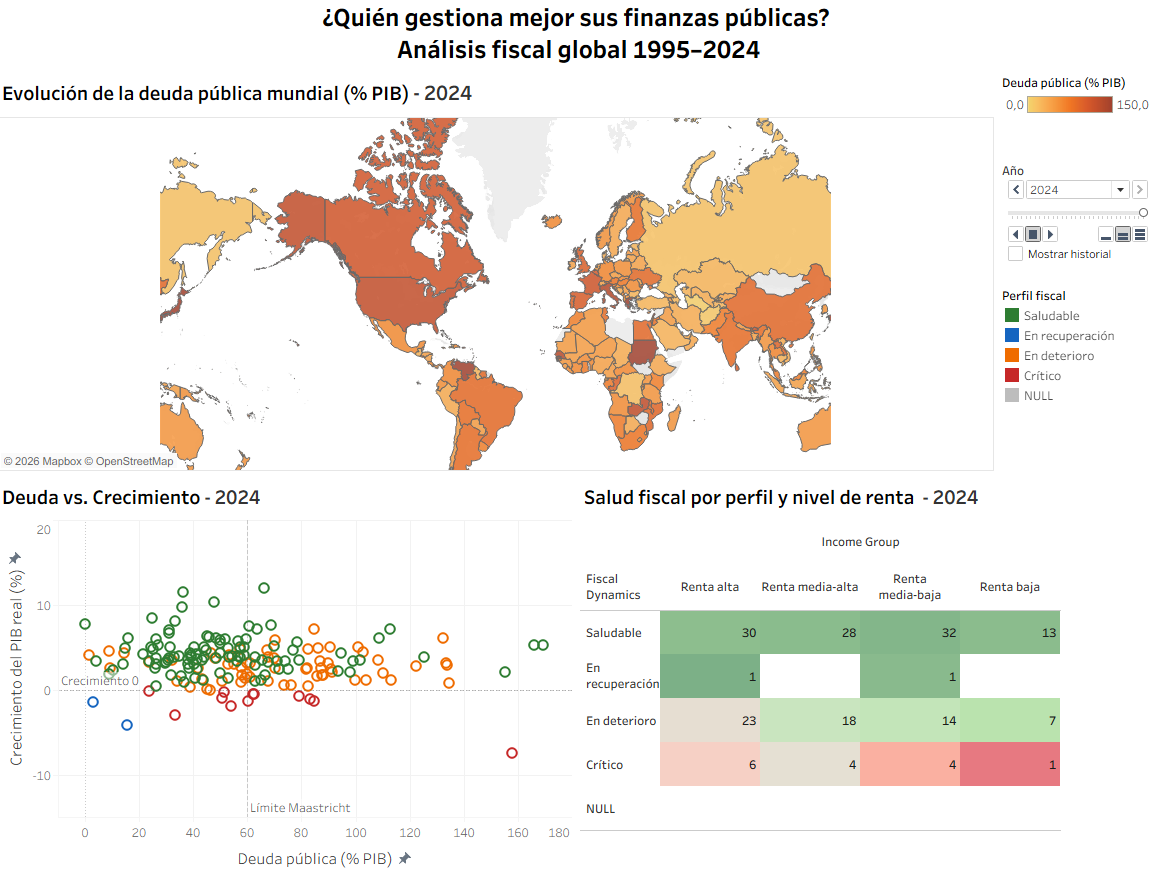

Layout of this report page (visuals, bound fields, positions):
{"tool":"tableau","page":{"name":"Análisis fiscal global","canvas":[1180,900],"ordinal":0},"visuals":[{"type":"title","box":[8,8,1164,74]},{"type":"worksheet","title":"Mapa Deuda","mark":"Multipolygon","box":[8,82,1004,405]},{"type":"legend","title":"Mapa Deuda","param":"[federated.0nagf9v0xo4a3811s27w002qgf8a].[avg:debt_pct_gdp:qk]","box":[1012,82,160,88]},{"type":"currpage","title":"Mapa Deuda","box":[1012,170,160,125]},{"type":"legend","title":"Scatter","param":"[federated.0nagf9v0xo4a3811s27w002qgf8a].[none:fiscal_dynamics:nk]","box":[1012,295,160,126]},{"type":"worksheet","title":"Scatter","mark":"Automatic","rows":["gdp_growth_pct"],"cols":["debt_pct_gdp"],"box":[8,487,582,405]},{"type":"worksheet","title":"Matriz Riesgo","mark":"Square","rows":["fiscal_dynamics"],"cols":["income_group"],"box":[590,487,582,405]}]}

Visuals, with their boxes in screenshot pixels (x1, y1, x2, y2), scaled from the page's 1180x900 canvas onto the 1160x872 screenshot:
title: crop(8, 8, 1152, 79)
"Mapa Deuda" worksheet (Multipolygon marks): crop(8, 79, 995, 472)
"Mapa Deuda" legend: crop(995, 79, 1152, 165)
"Mapa Deuda" currpage: crop(995, 165, 1152, 286)
"Scatter" legend: crop(995, 286, 1152, 408)
"Scatter" worksheet: crop(8, 472, 580, 864)
"Matriz Riesgo" worksheet (Square marks): crop(580, 472, 1152, 864)
